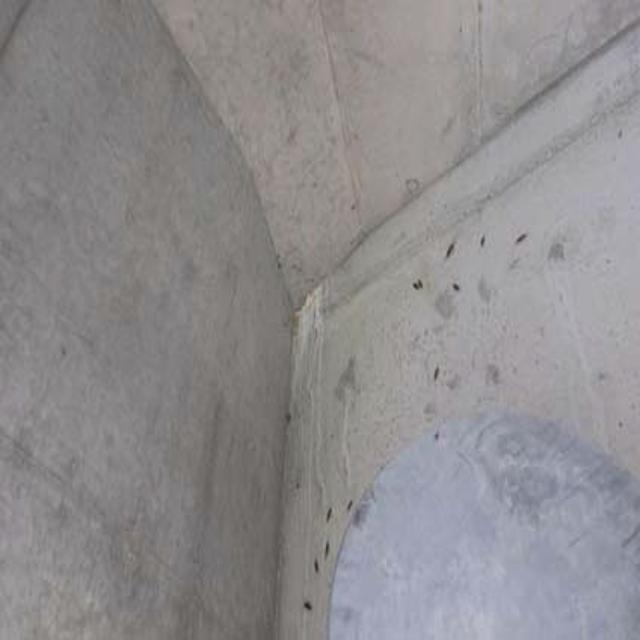freelime: (283, 294, 321, 373)
